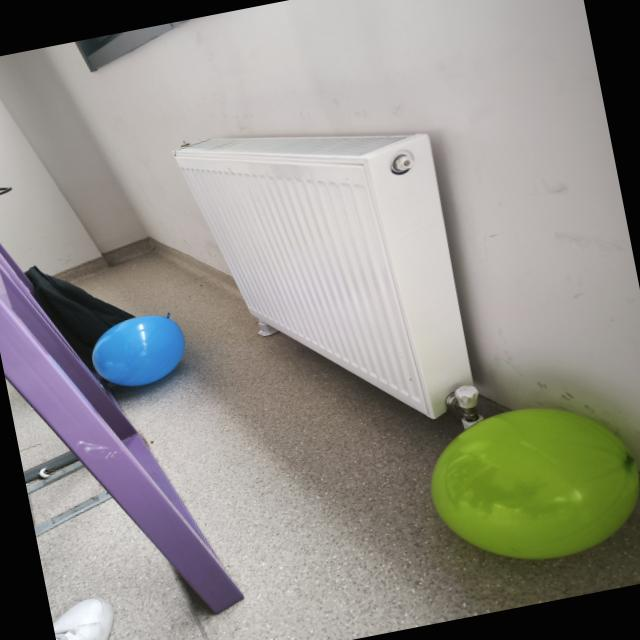balloon: (431, 409, 639, 559), (93, 316, 185, 386)
